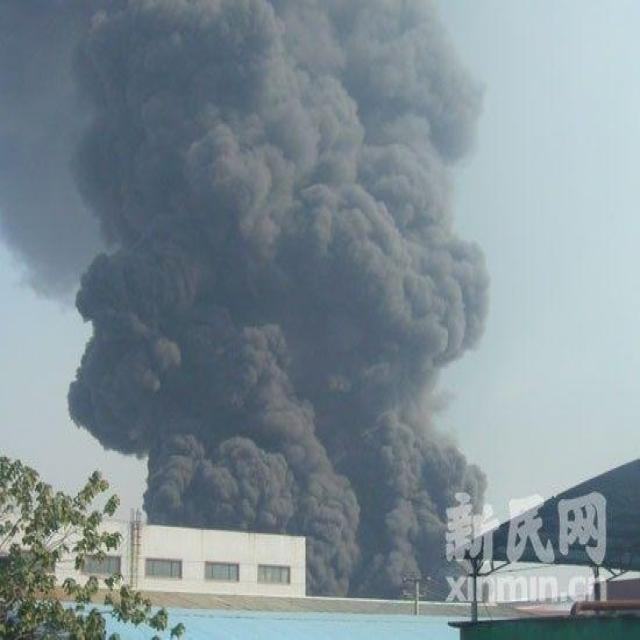Smoke: (0, 0, 495, 604)
